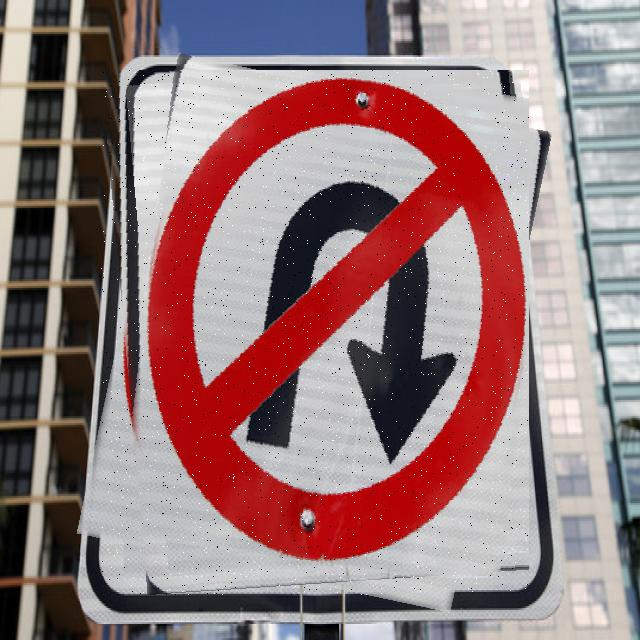no u turn: (101, 70, 529, 595)
